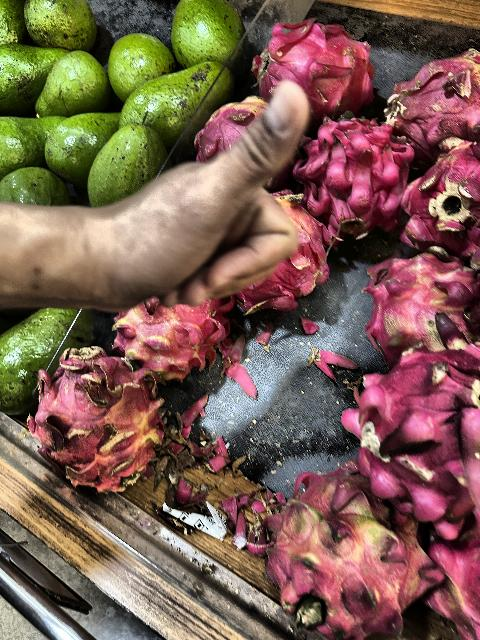buah-naga-belum-matang: (264, 463, 436, 622), (26, 344, 170, 500), (112, 294, 228, 386), (372, 250, 470, 356)
buah-naga-matang: (342, 336, 480, 514), (299, 111, 408, 225), (388, 51, 480, 142), (255, 32, 373, 100), (408, 140, 480, 246), (434, 528, 480, 634)
